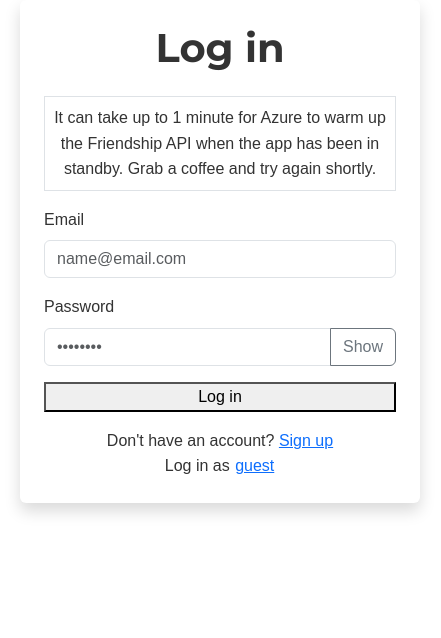
Scenario: Login integration › shows confirmation requirement when API responds with that text
The width and height of the screenshot is (441, 638).
Step 1. Type "test@test.com" into the field labelled "Email" → (220, 259), box [44,240,396,278]
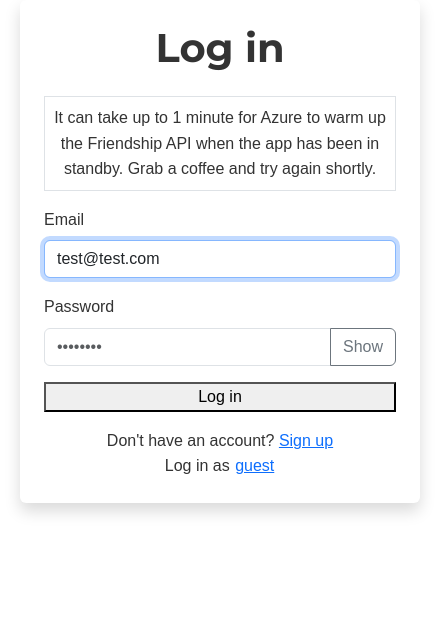
Step 2. Type "Secret123!" into the password field labelled "Password" → (188, 347), box [44,328,331,366]
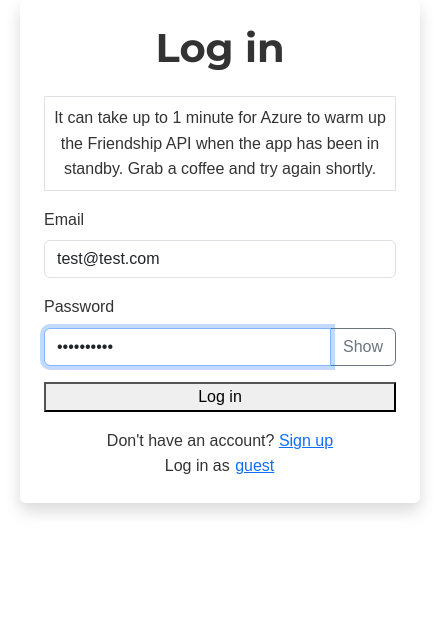
Step 3. Click the button "Log in" → (220, 397), box [44,382,396,412]
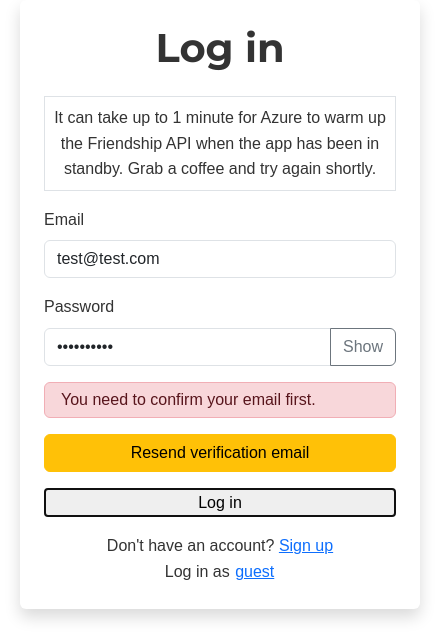
Result: the text "You need to confirm your email first." is shown at [61,391,316,408]
